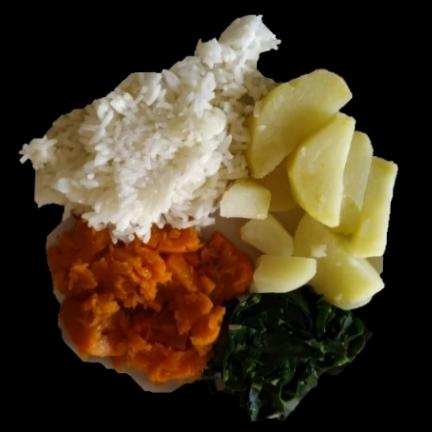potato: (203, 70, 397, 309)
rice: (20, 16, 280, 240)
salad: (204, 287, 369, 421)
